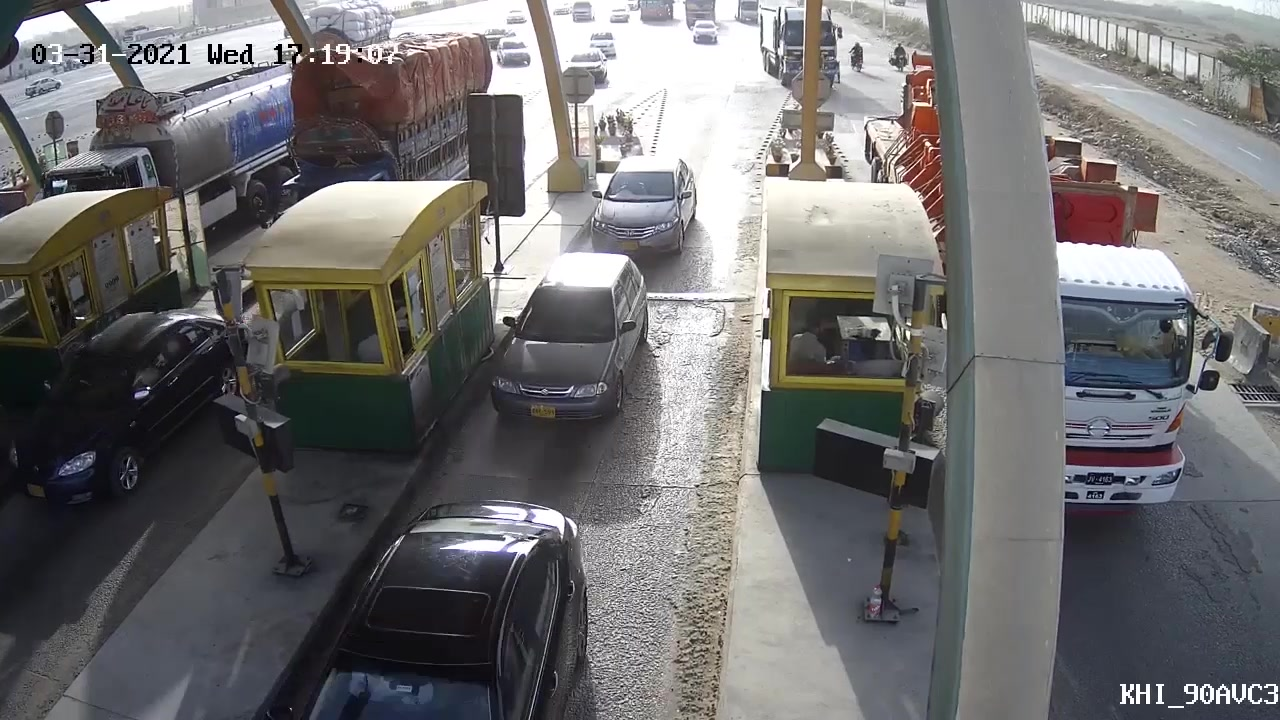F1: (477, 246, 653, 455), (582, 151, 702, 258)
